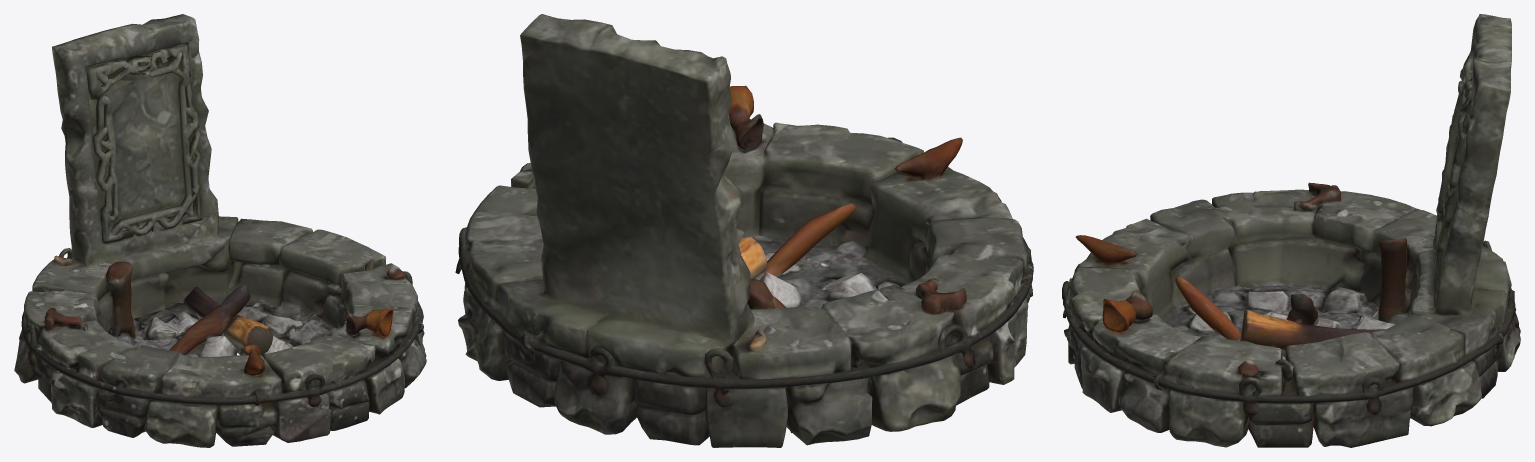
Rendered from kit_hearthstone.glb.
3 renders of one model, left to right at view 1: azimuth 30°, elevation 25°; view 2: azimuth 150°, elevation 25°; view 3: azimuth 270°, elevation 25°, orthographic. The views are drawn at different scales.
Parts seen in each view (by area): view 1: kit_hearthstone-convcol; view 2: kit_hearthstone-convcol; view 3: kit_hearthstone-convcol.
Boxes of the visible parts, left/top/right/bottom form: kit_hearthstone-convcol: left=14, top=14, right=426, bottom=447; kit_hearthstone-convcol: left=455, top=14, right=1033, bottom=447; kit_hearthstone-convcol: left=1062, top=14, right=1520, bottom=447.
Size of the model in its own units: 1.6 by 1.19 by 1.6.
1 material, 1 textured.
